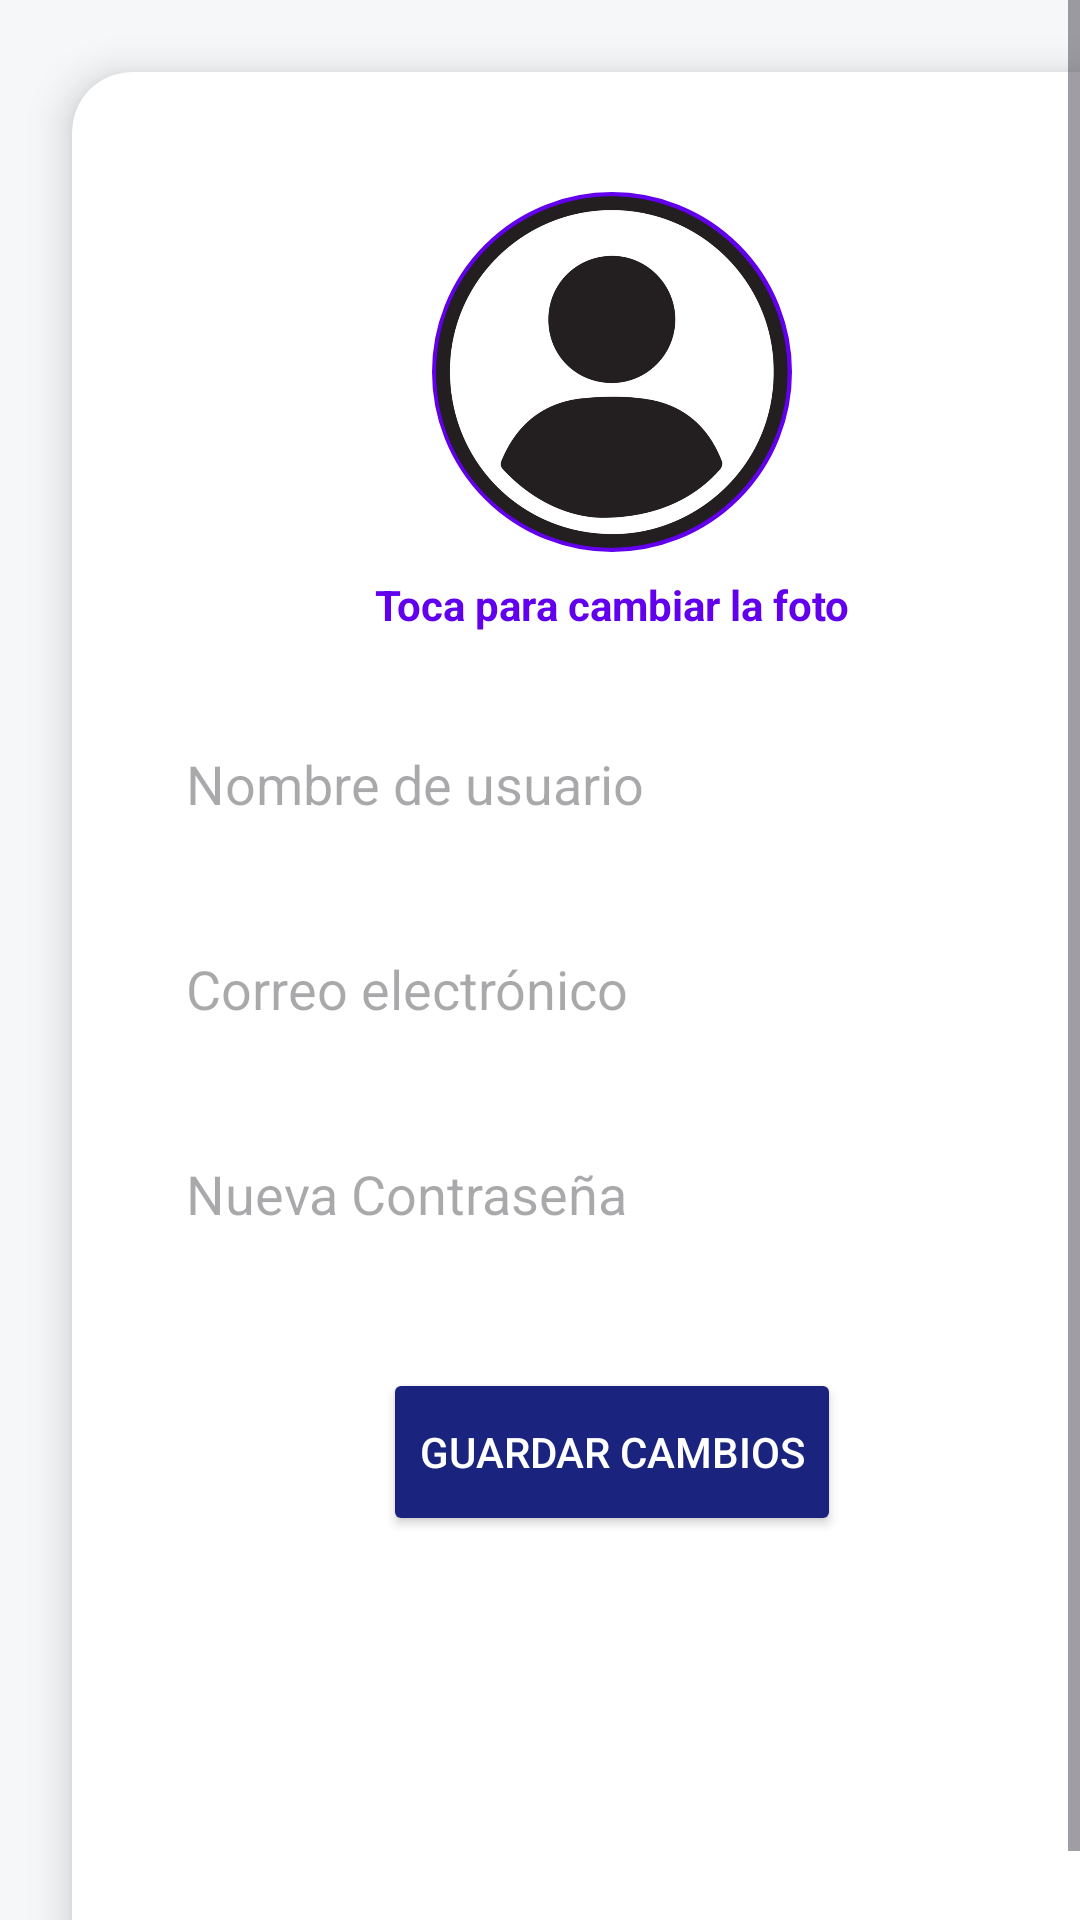

Locate icon controls on the screen. Image size 1080 x 1920, boxes as [x1=x1, y1=y1, x2=x2, y2=y2].
user: [x1=432, y1=192, x2=792, y2=552]
